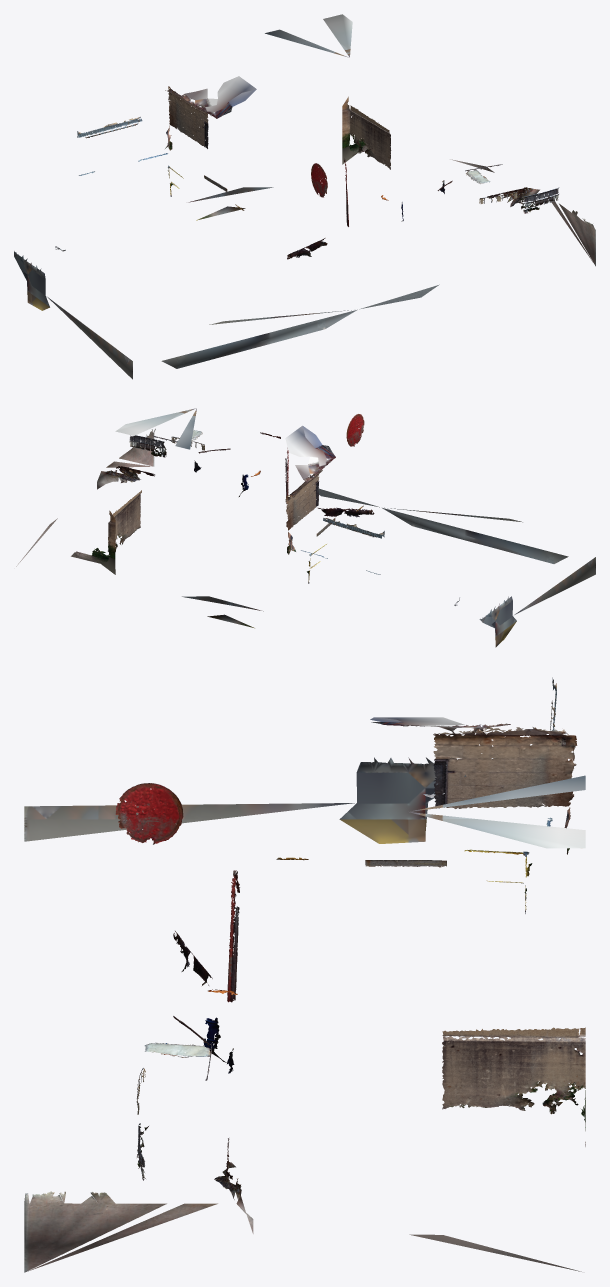
3 renders of one model, top to bottom at view 1: azimuth 30°, elevation 25°; view 2: azimuth 150°, elevation 25°; view 3: azimuth 270°, elevation 25°, orthographic. The views are drawn at different scales.
Size of the model in its own units: 11.17 by 3.93 by 6.15.
Materials: 1 (1 with a texture image).
